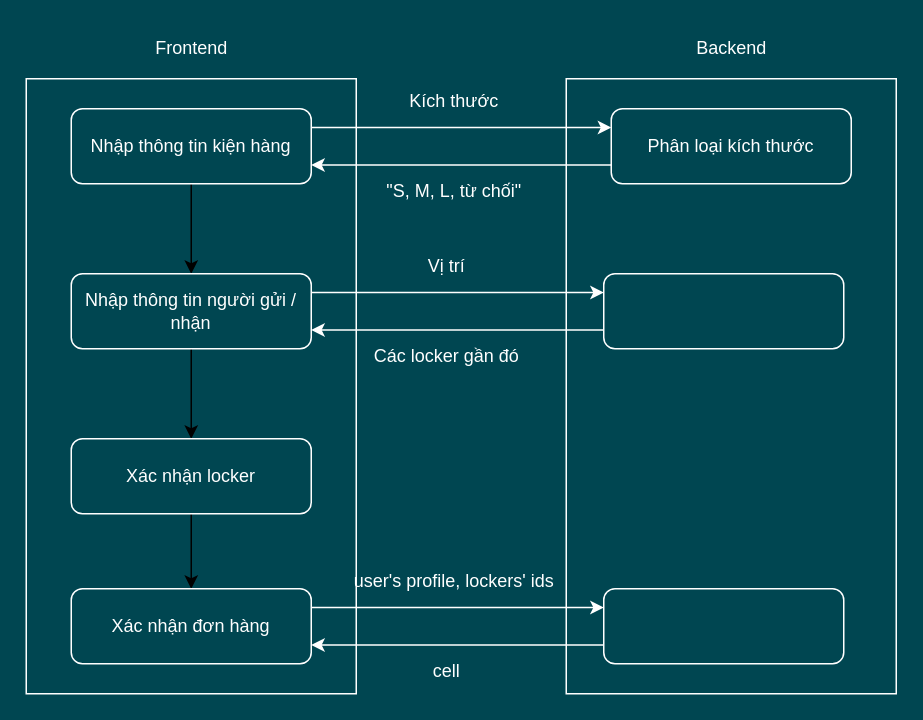
The diagram is 923 pixels wide and 720 high, and some of its shapes have lost their labels. Each missing label, with the centre of its shape:
Tìm locker: (723,310)
Tạo đơn hàng: (723,625)
